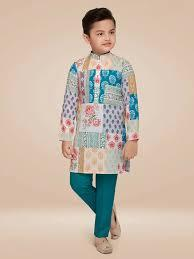Human: (62, 3, 140, 259)
